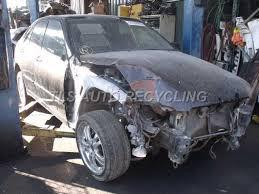bonnet-dent: (99, 50, 235, 101)
